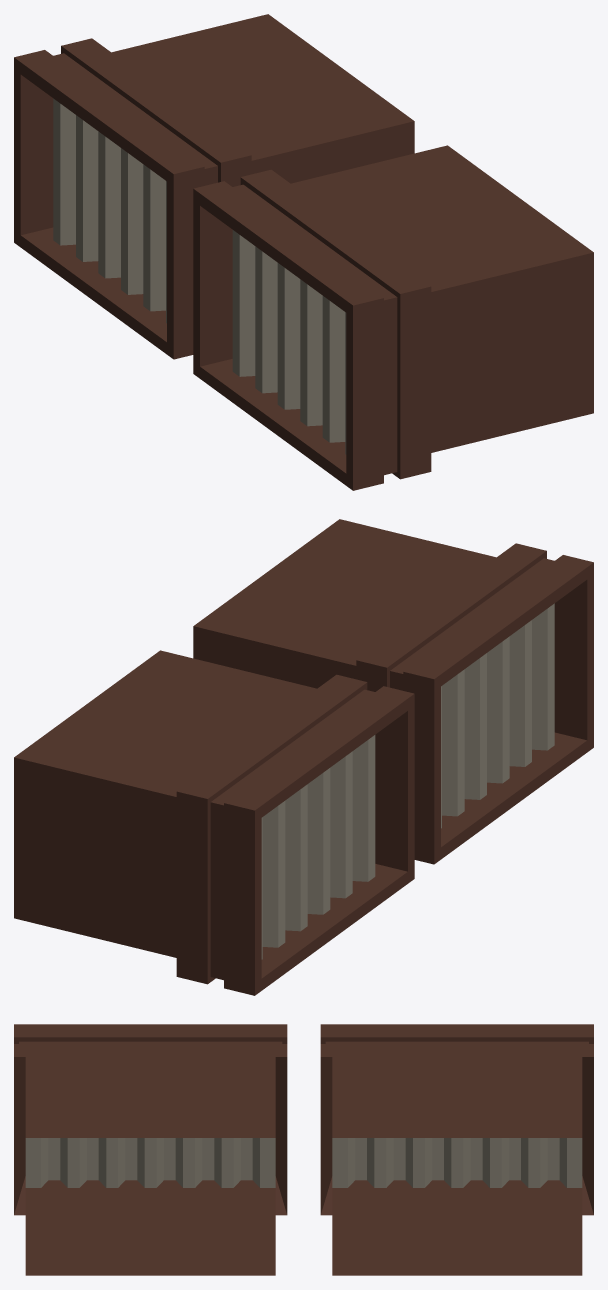
Rendered from AirFilterClean.fbx.
The picture shows the model from 3 angles, top to bottom: view 1: azimuth 30°, elevation 25°; view 2: azimuth 150°, elevation 25°; view 3: azimuth 270°, elevation 25°; orthographic projection. The views are drawn at different scales.
Parts seen in each view (by area): view 1: Cube.117; view 2: Cube.117; view 3: Cube.117.
Part boxes in pixels (bbox=[...]): Cube.117: bbox=[14, 14, 593, 490]; Cube.117: bbox=[14, 519, 593, 995]; Cube.117: bbox=[14, 1024, 593, 1275].
Size of the model in its own units: 170 by 122 by 404.
